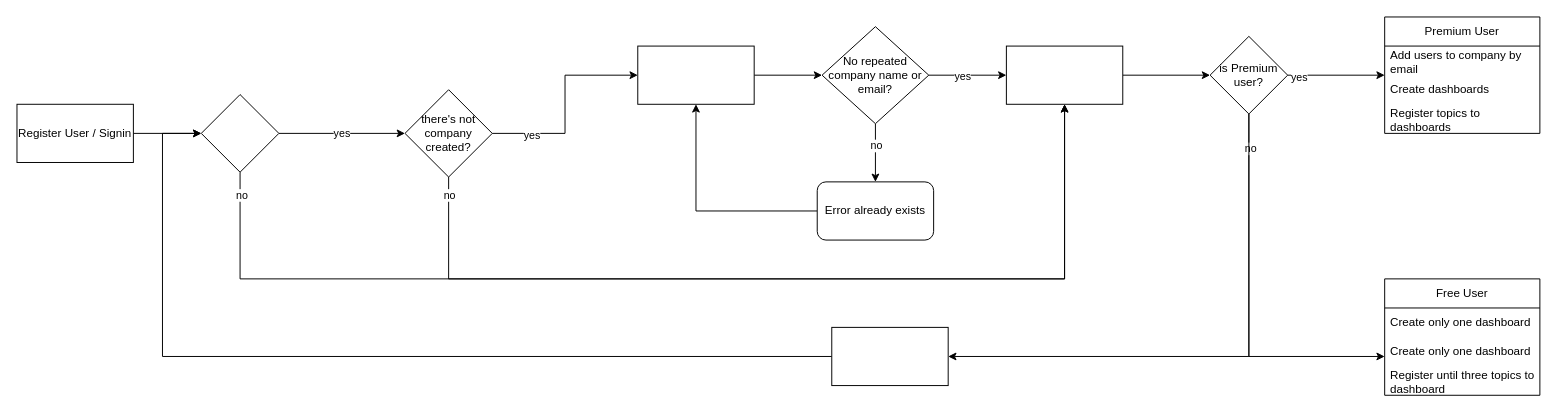
The diagram is 1557 pixels wide and 412 high, and some of its shapes have lost their labels. The centre of each missing label's shape, as x and y in pixels:
"Pay Premium?" belongs at (239,133).
"Redirect to create company" belongs at (695,74).
"Redirect to dashboard view" belongs at (1064,74).
"Show pop up for pay premium" belongs at (889,356).
